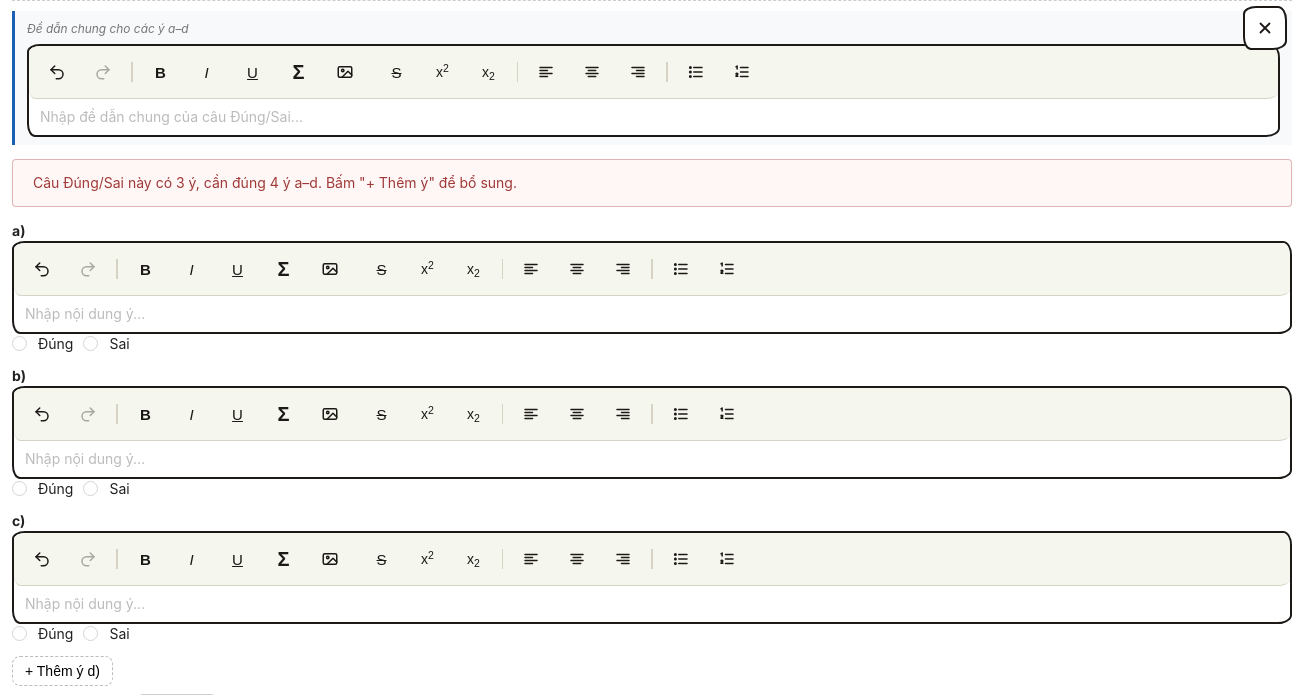
Test: editor: score field and + Thêm ý › a block with 3 ý gets "+ Thêm ý d)" which appends the missing ý
This screenshot has width=1292, height=695.
(page scrolled)
Click the button "+ Thêm ý d)" at (62, 671), box [12,656,113,686]
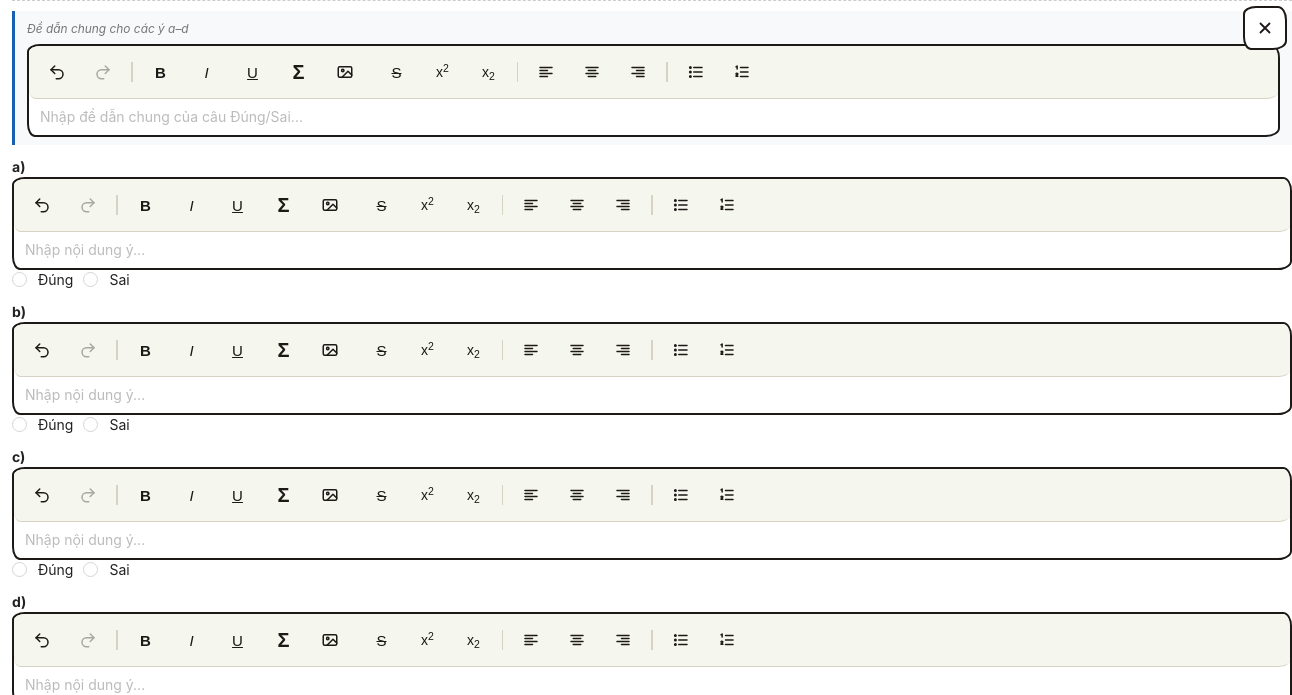
Expected: the text "Thêm ý" is gone
